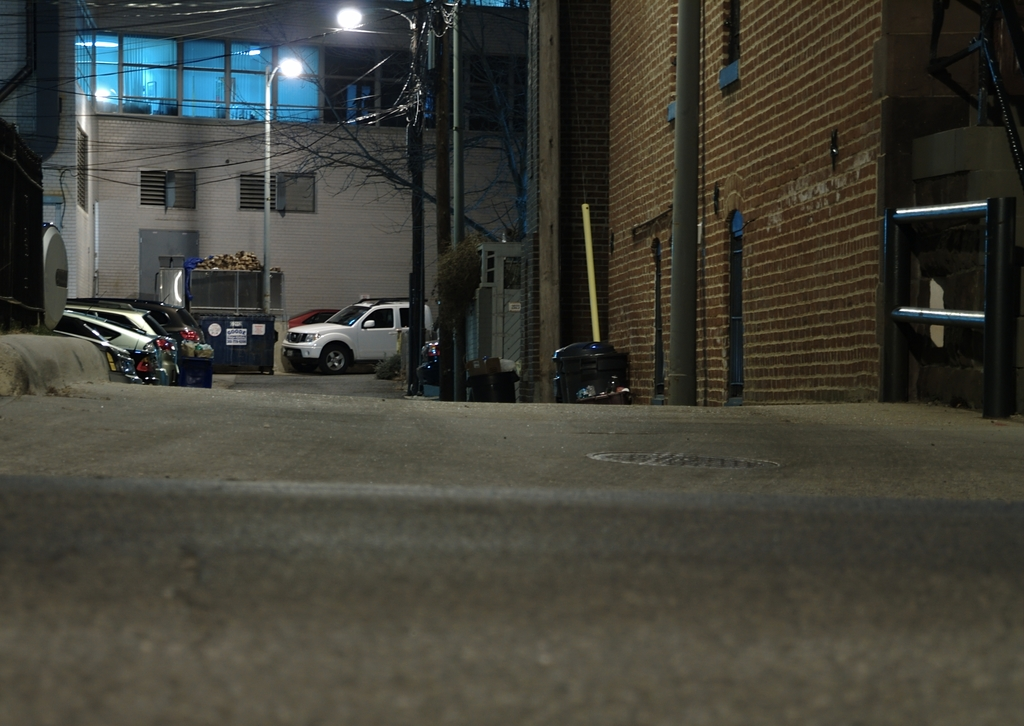Car: (44, 290, 215, 384), (281, 296, 432, 377)
